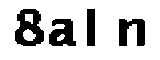8: (12, 5, 47, 52)
I: (82, 5, 101, 50)
a: (46, 15, 79, 51)
n: (114, 13, 150, 51)
